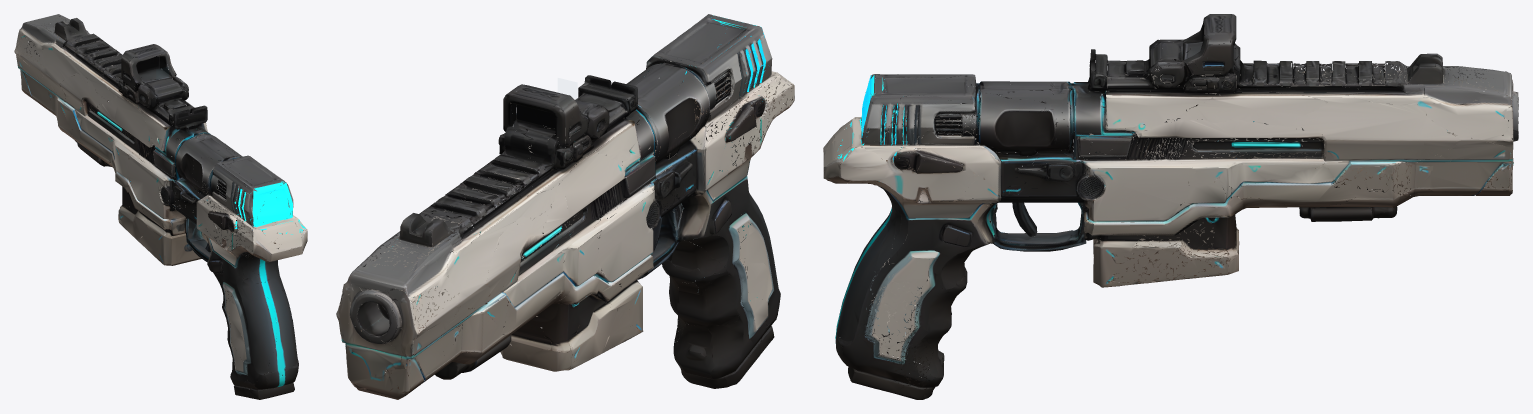
File: em127p_viewmodel.glb
The picture shows the model from 3 angles, left to right: view 1: azimuth 30°, elevation 25°; view 2: azimuth 150°, elevation 25°; view 3: azimuth 270°, elevation 25°; orthographic projection. The views are drawn at different scales.
Visible parts, largest first — view 1: node_0; view 2: node_0; view 3: node_0.
Part boxes in pixels (bbox=[...]): node_0: bbox=[14, 14, 307, 399]; node_0: bbox=[336, 14, 794, 399]; node_0: bbox=[823, 14, 1518, 399].
Size of the model in its own units: 0.1411 by 0.585 by 1.
3 materials, 1 textured.
